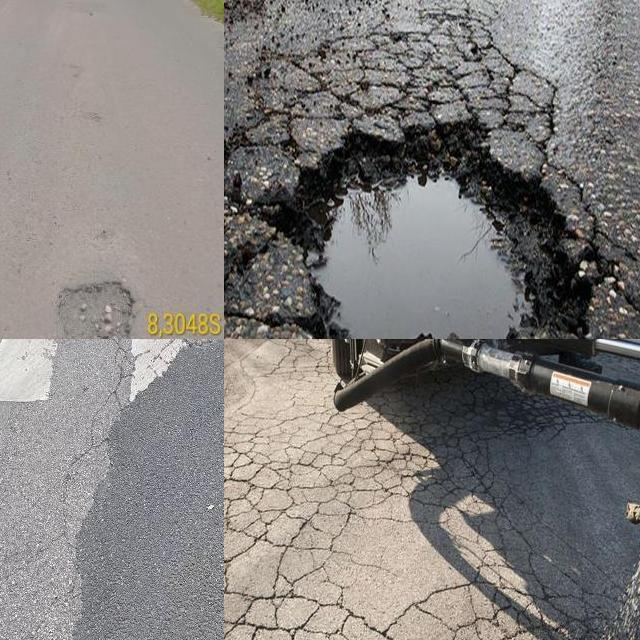Lubang: (306, 128, 577, 339), (40, 280, 141, 339)
Retak Buaya: (224, 377, 584, 640), (224, 0, 555, 183)
Sambungan: (70, 339, 224, 640)
